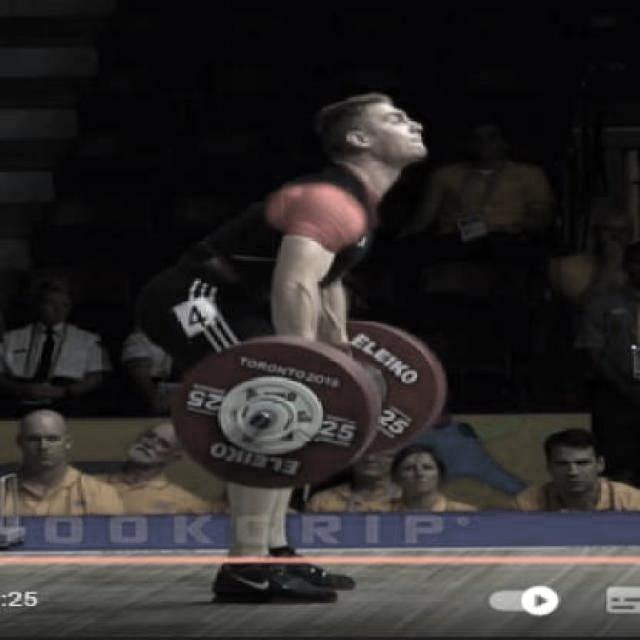barbell: (167, 330, 385, 495)
